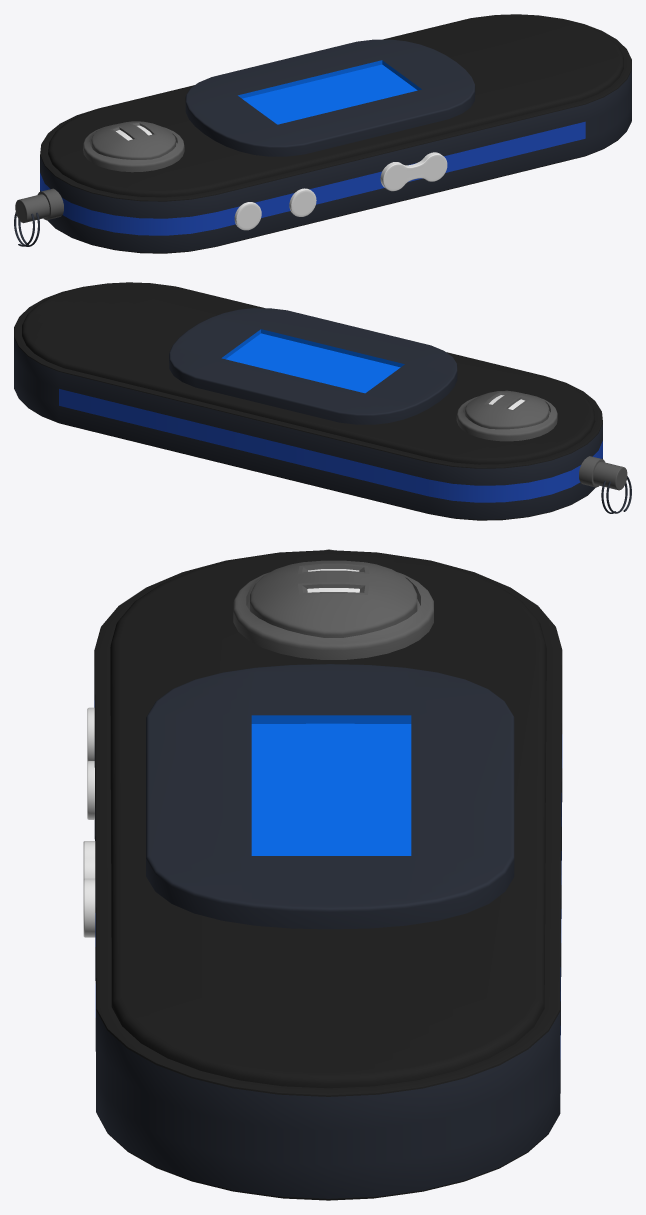
The picture shows the model from 3 angles, top to bottom: view 1: azimuth 30°, elevation 25°; view 2: azimuth 150°, elevation 25°; view 3: azimuth 270°, elevation 25°; orthographic projection. The views are drawn at different scales.
Visible parts, largest first — view 1: MP3; view 2: MP3; view 3: MP3.
Boxes of the visible parts, x1,y1,x2,y2 form: MP3: [14, 14, 631, 253]; MP3: [14, 282, 631, 520]; MP3: [83, 549, 562, 1200].
Bounding box in the file's own units: 0.9149 × 0.1286 × 0.3183.
